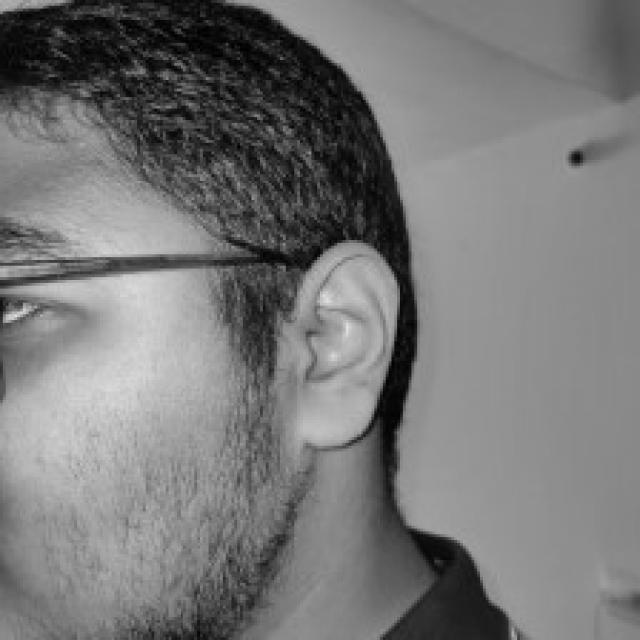ear: (291, 240, 397, 446)
